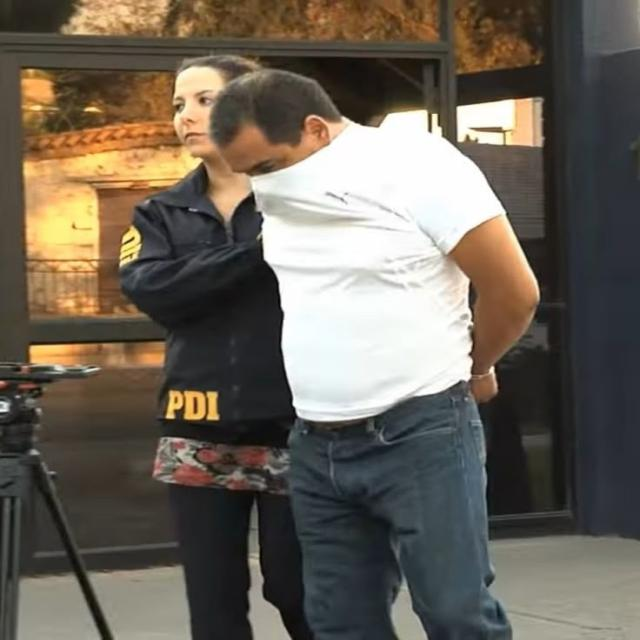8_ropa_rostro: (249, 127, 416, 227)
